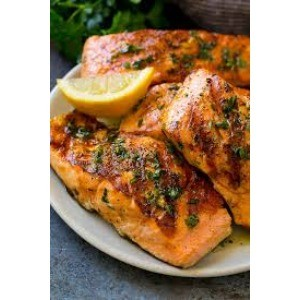salmon_brain food: (75, 61, 230, 227)
